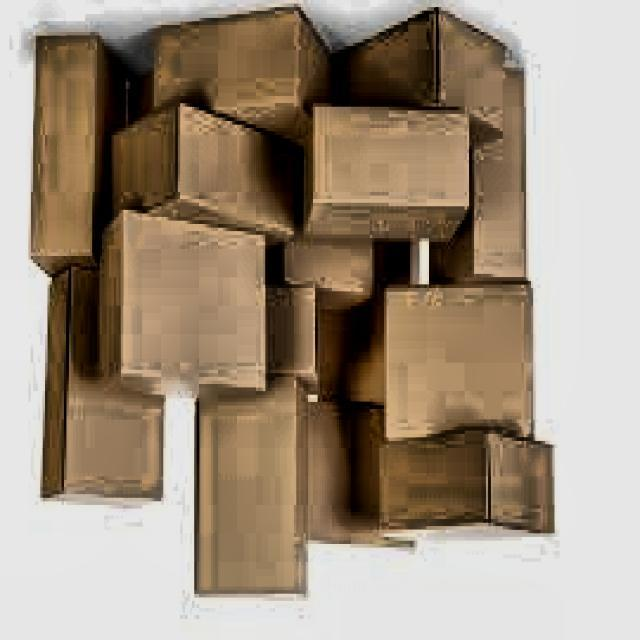cardboard: (28, 7, 554, 605)
